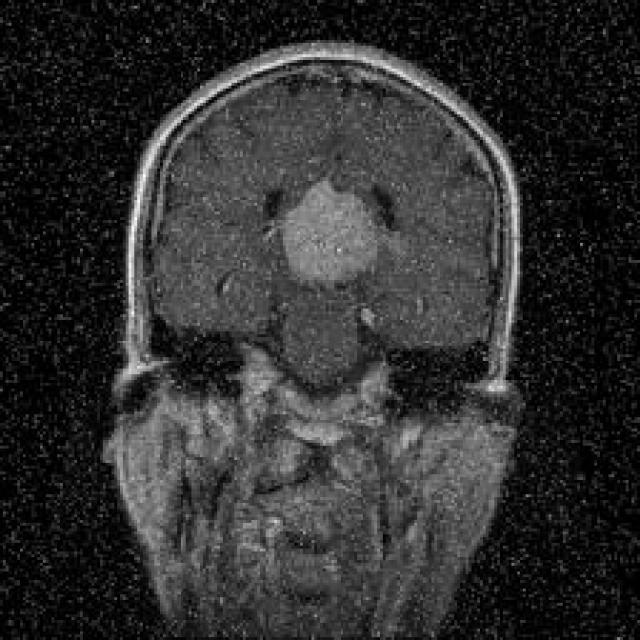meningioma_tumor: (270, 173, 393, 304)
